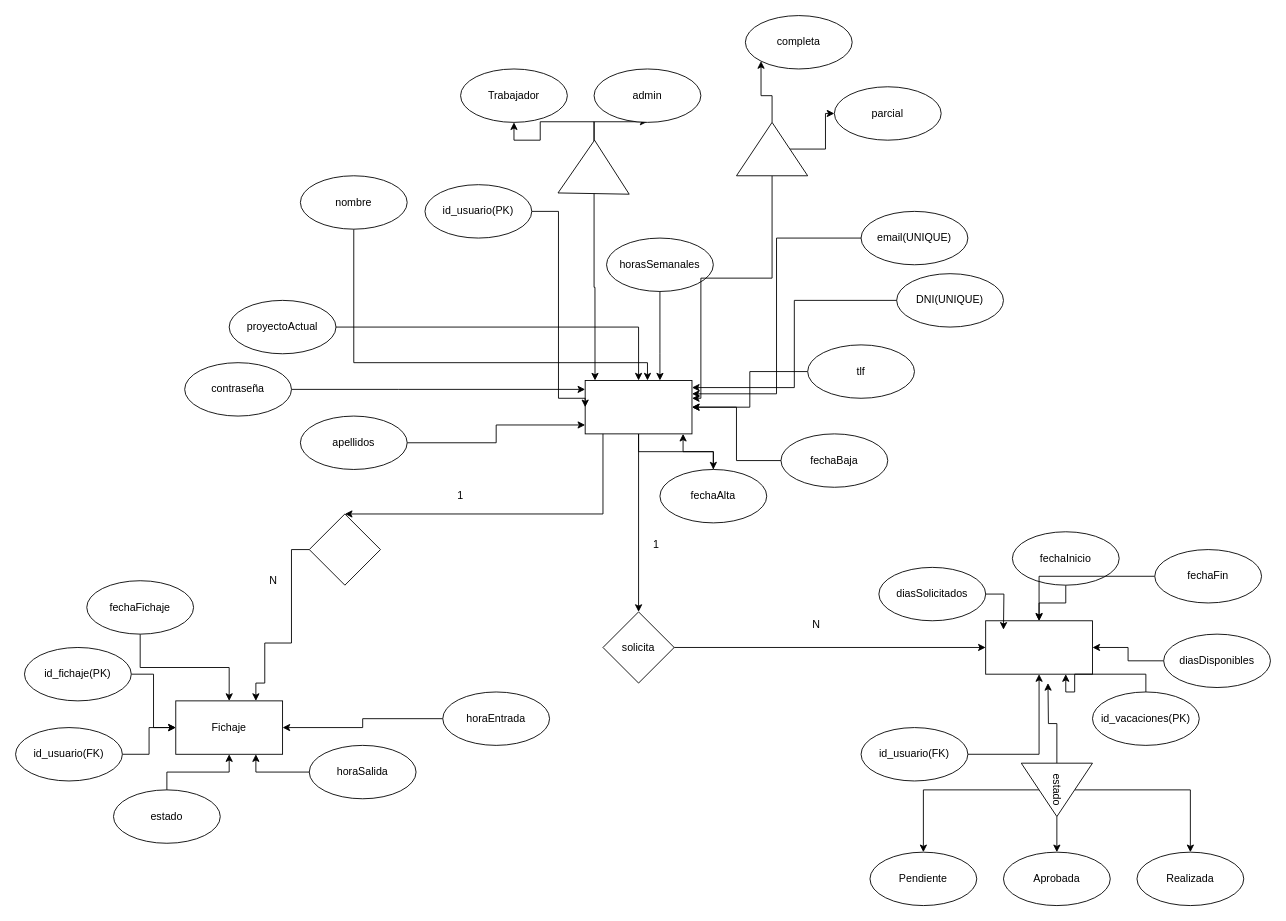
The diagram is 1286 pixels wide and 921 high, and some of its shapes have lost their labels. The centre of each missing label's shape, as x and y in pixels:
"realiza" belongs at pixel 344 549.
"rol" belongs at pixel 593 166.
"tipoJornada" belongs at pixel 772 148.
"Usuario" belongs at pixel 638 407.
"Vacaciones" belongs at pixel 1038 647.
